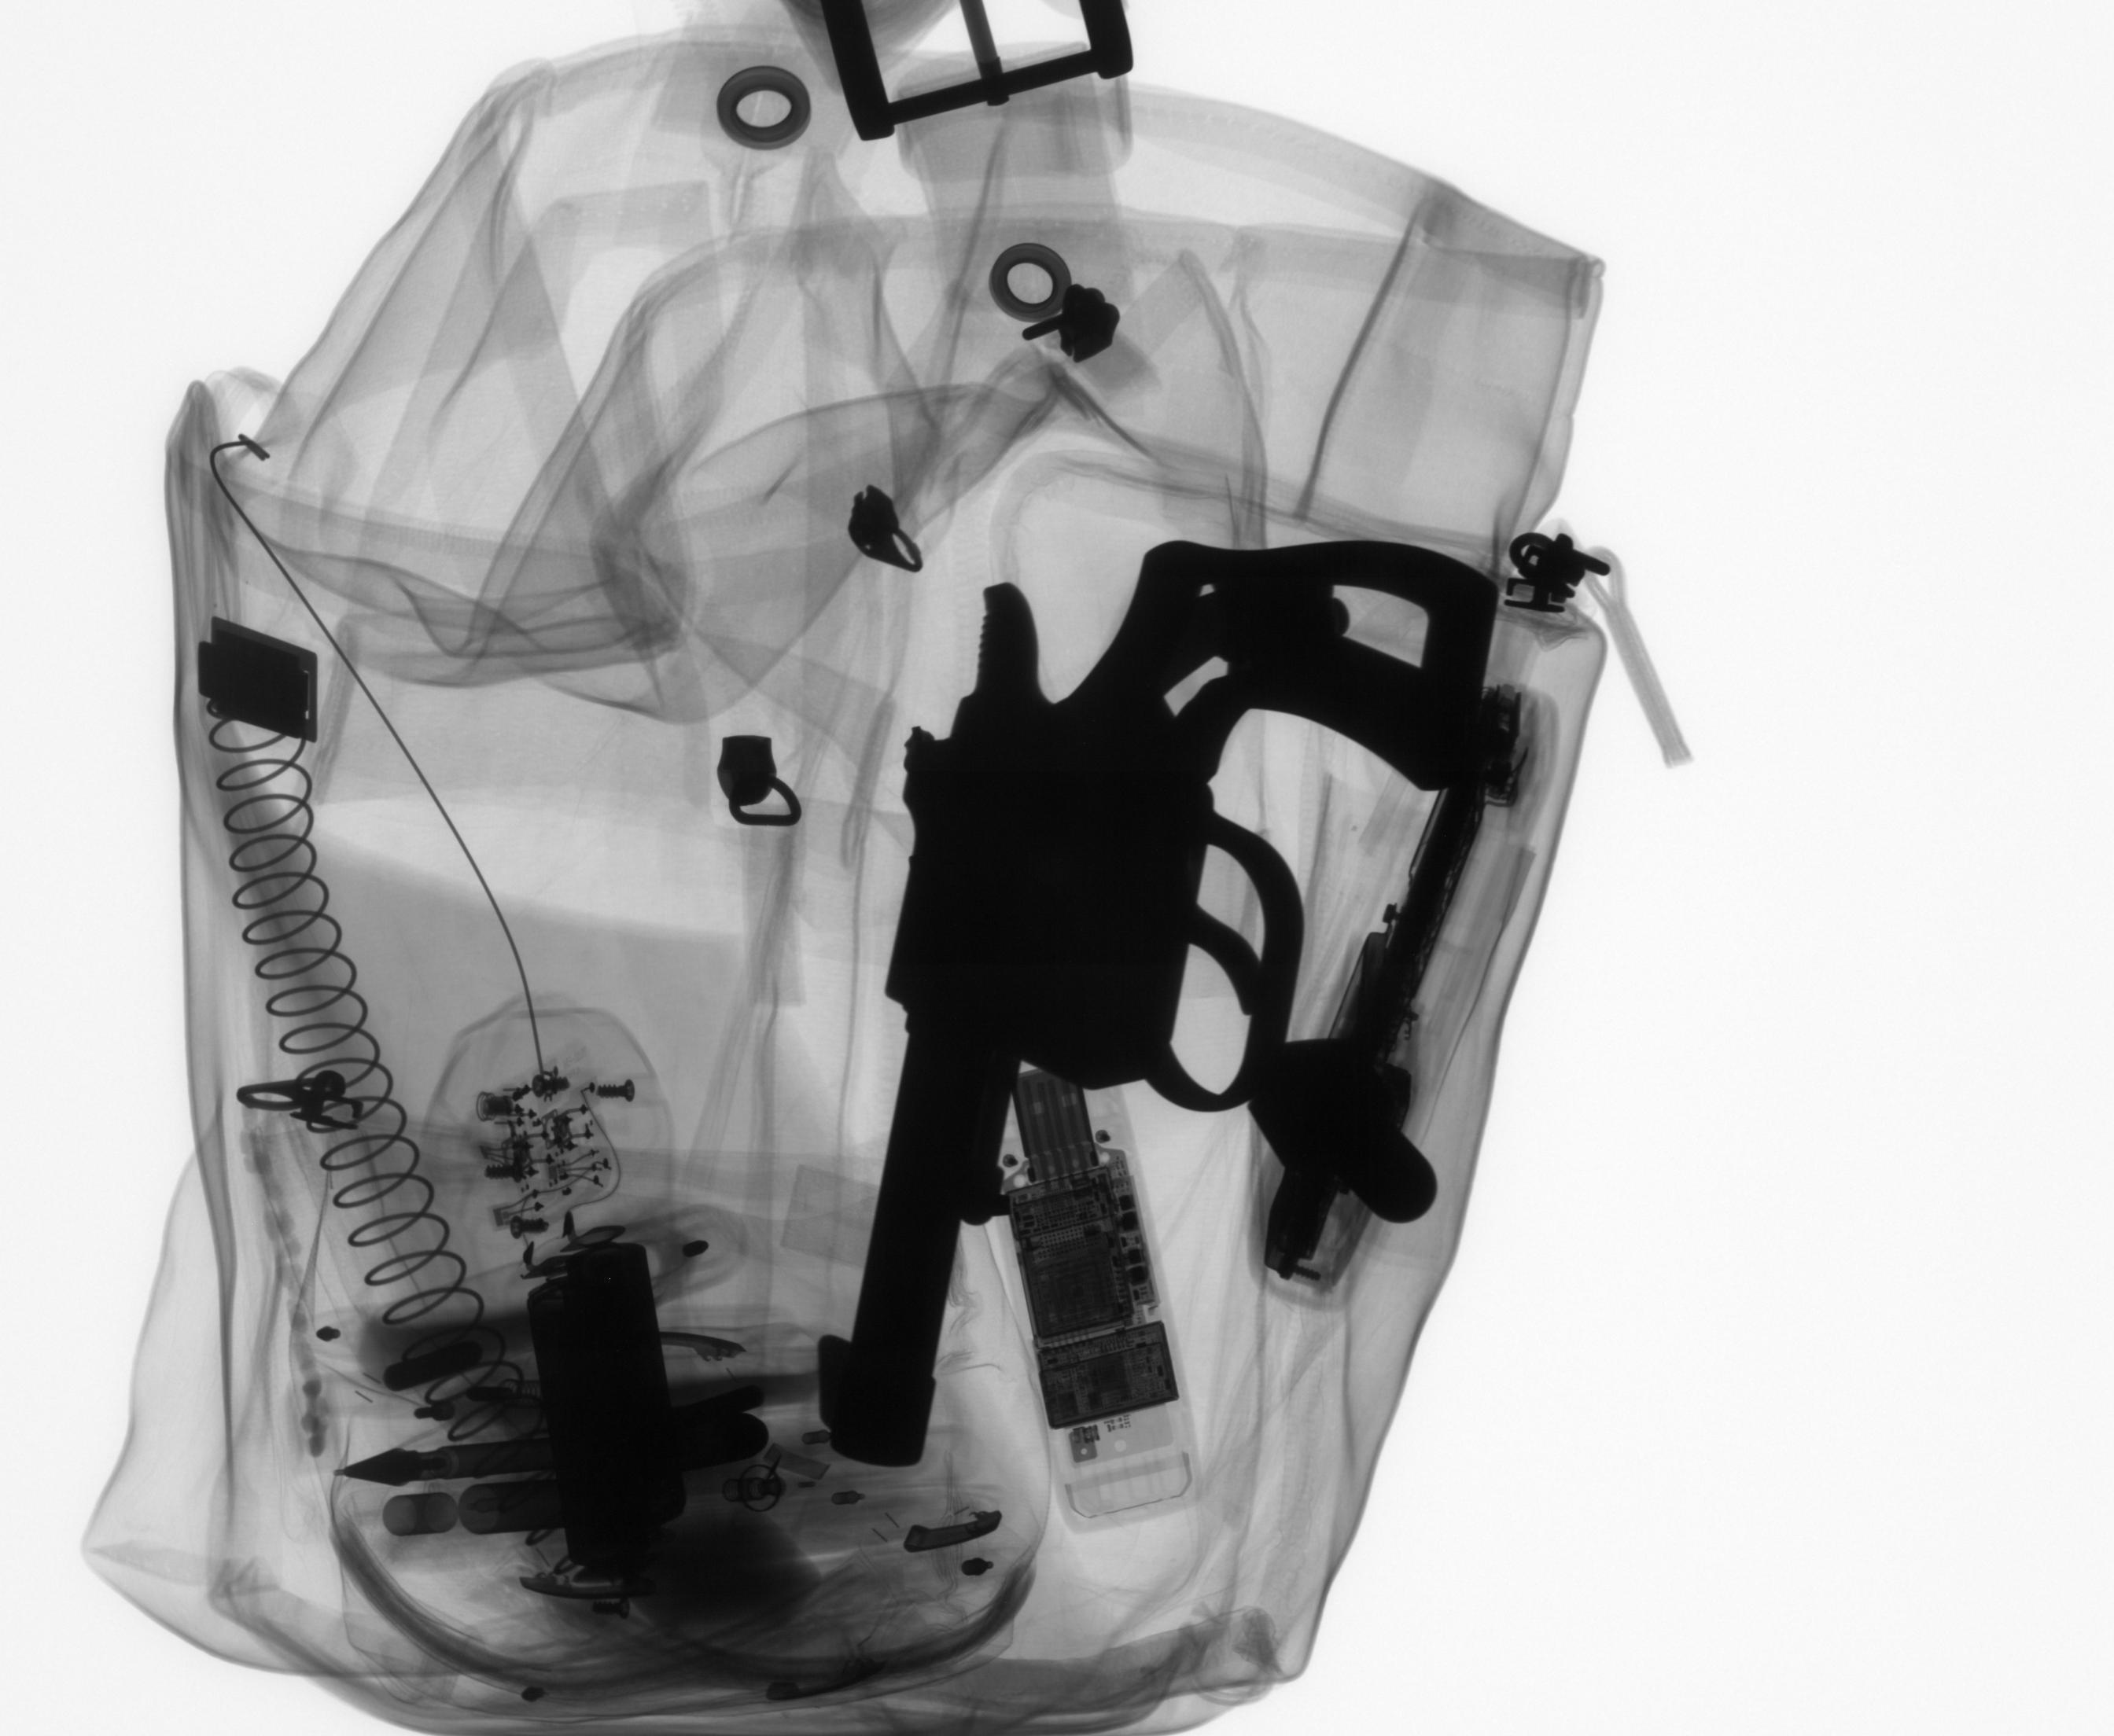Handgun: (800, 527, 1519, 1474)
